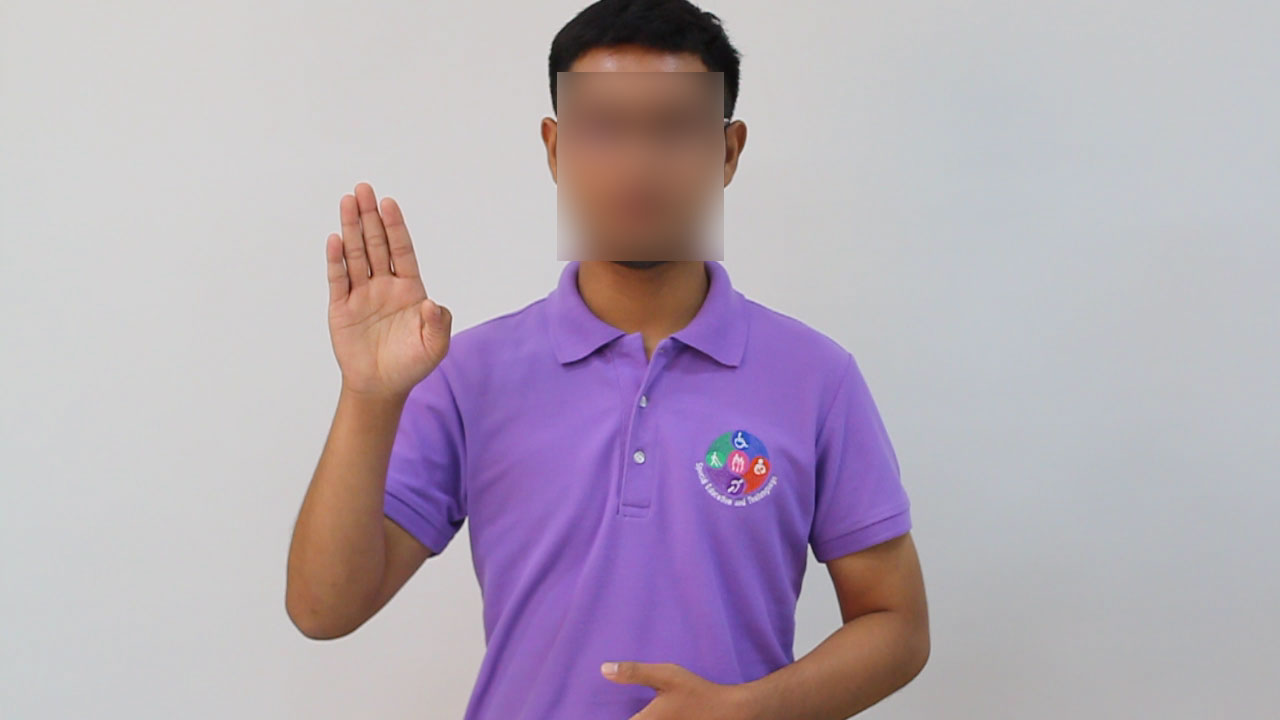bor: (309, 169, 462, 434)
